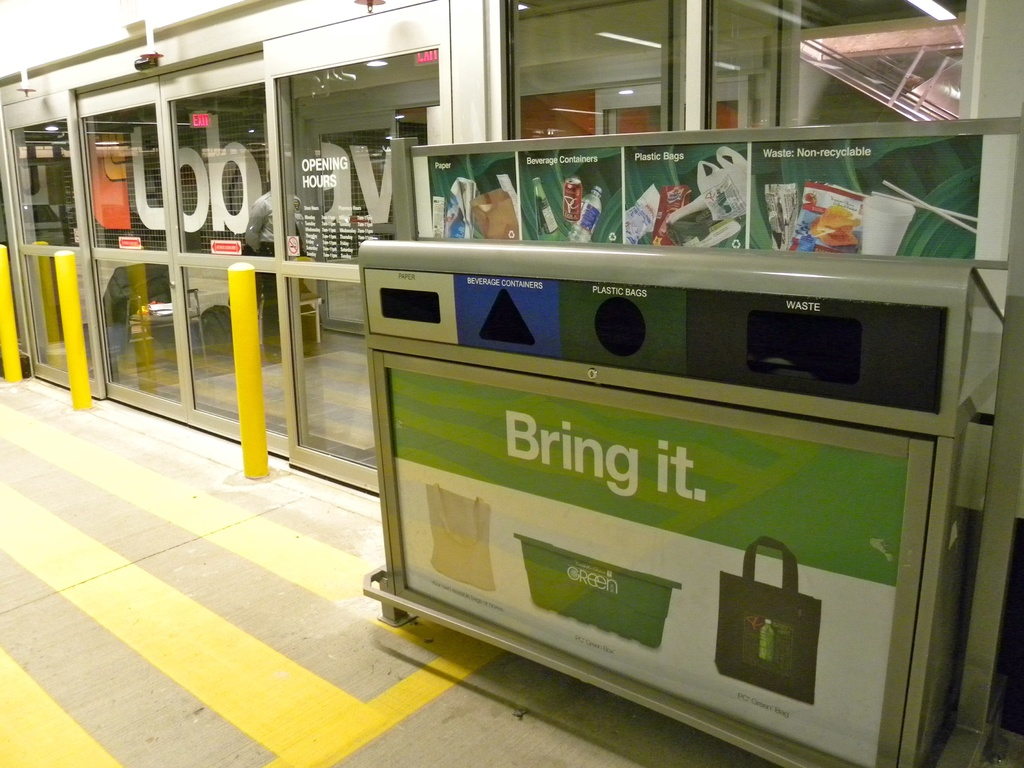door: (167, 91, 276, 416), (88, 109, 174, 387)
